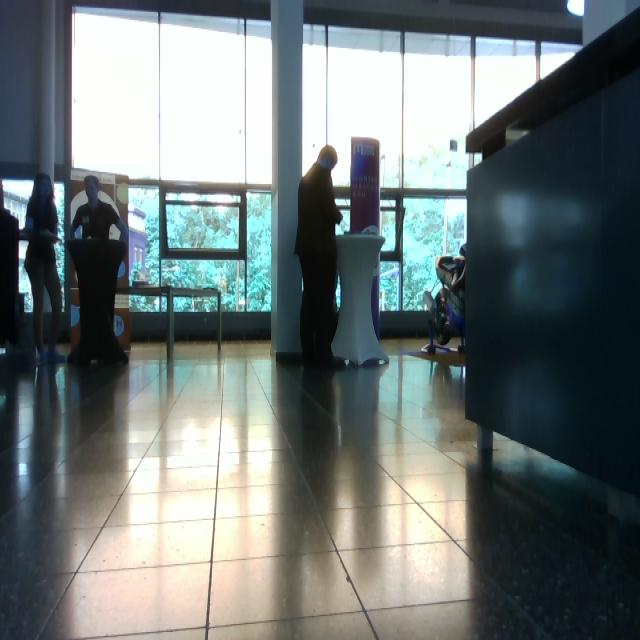light bulb: (567, 1, 585, 17)
person: (294, 145, 348, 370), (68, 175, 130, 367), (24, 173, 66, 365)
pillar: (270, 1, 304, 361)
table: (330, 229, 392, 373), (166, 285, 225, 362)
tiled floor: (2, 336, 639, 638)
window: (69, 5, 274, 320)
